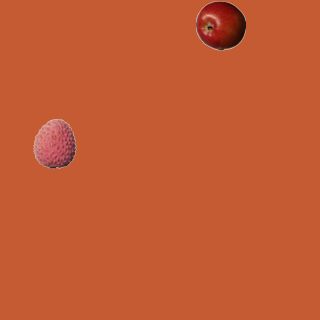Apple Braeburn: (195, 0, 245, 50)
Lychee: (29, 118, 79, 168)
